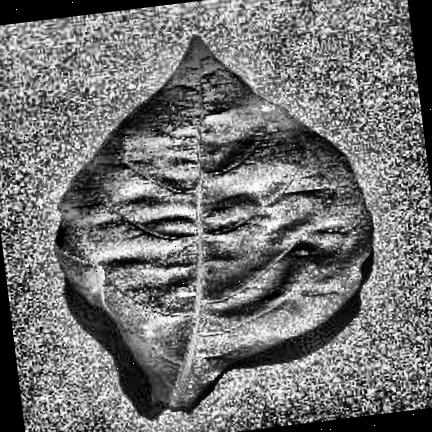leaf: (55, 36, 372, 408)
